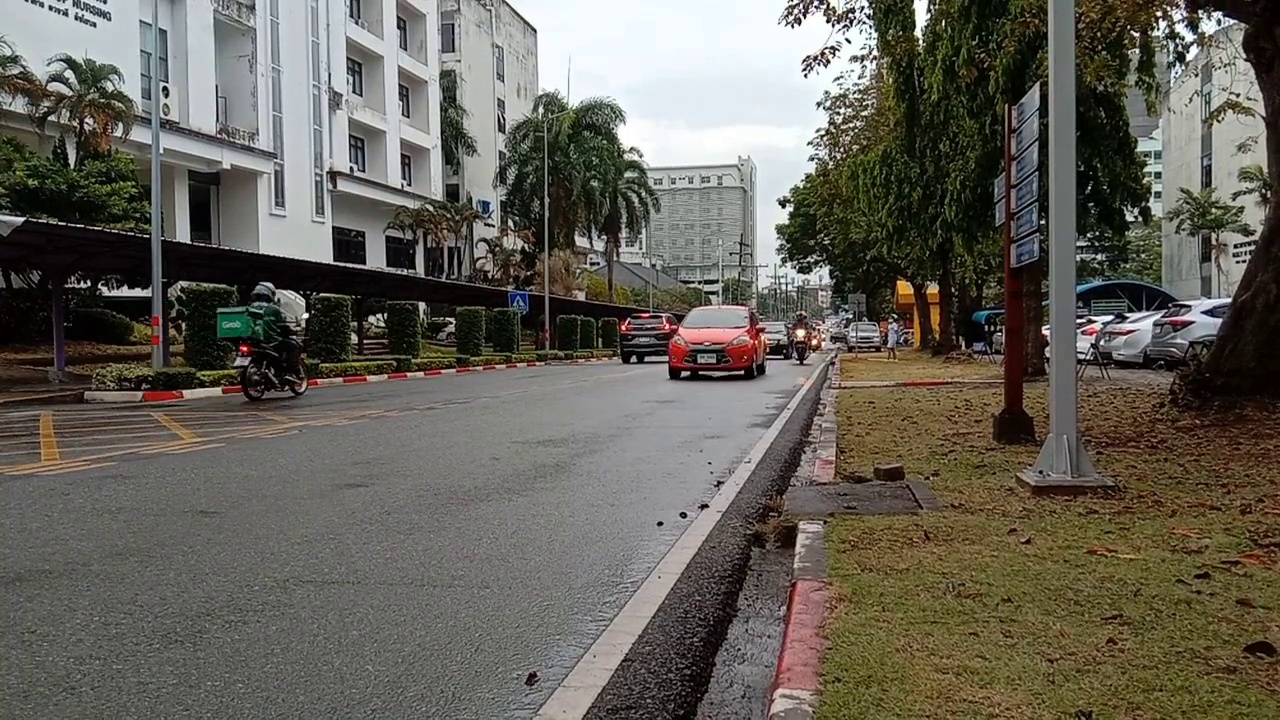License Plate: (697, 352, 716, 364)
